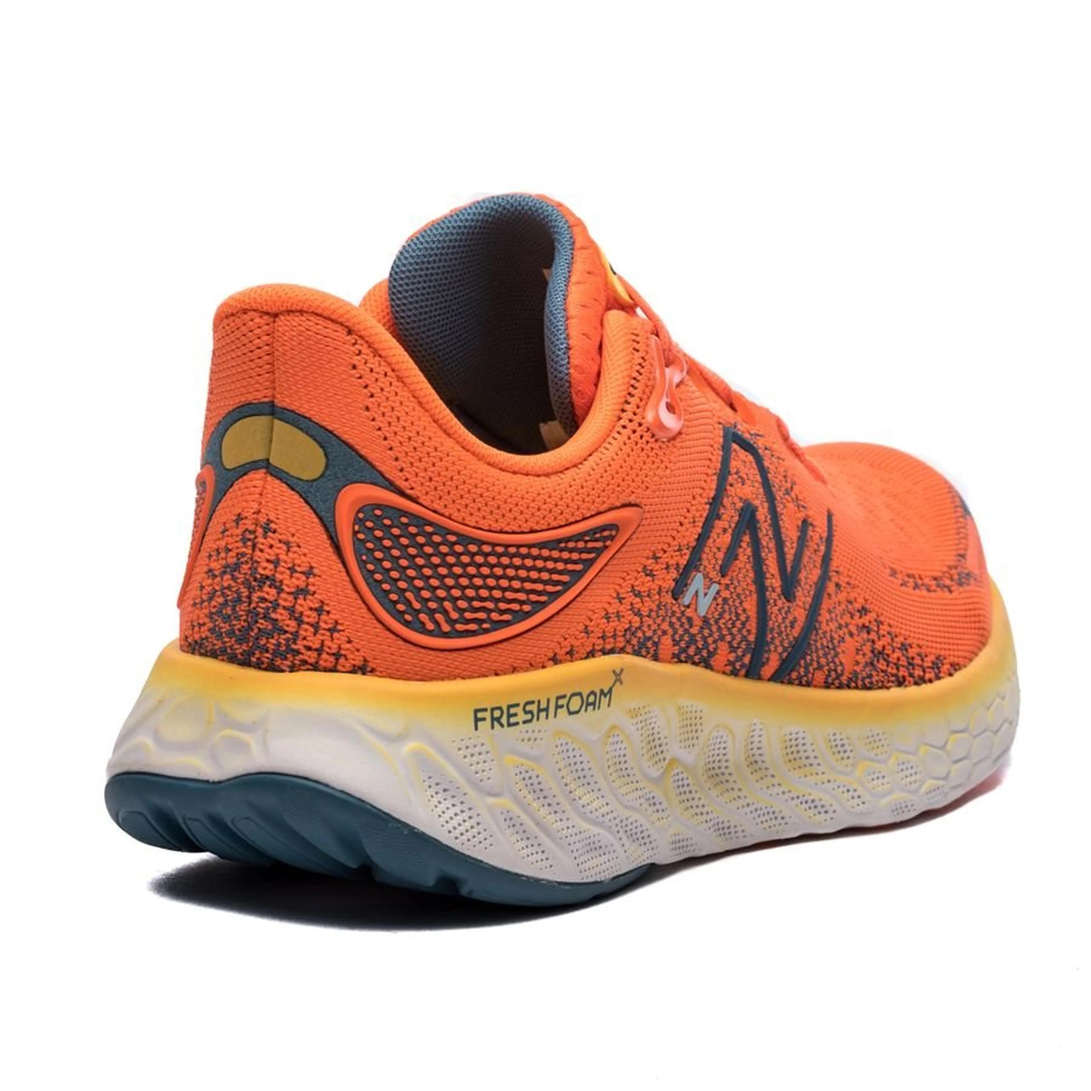NB logo: (646, 396, 858, 702)
